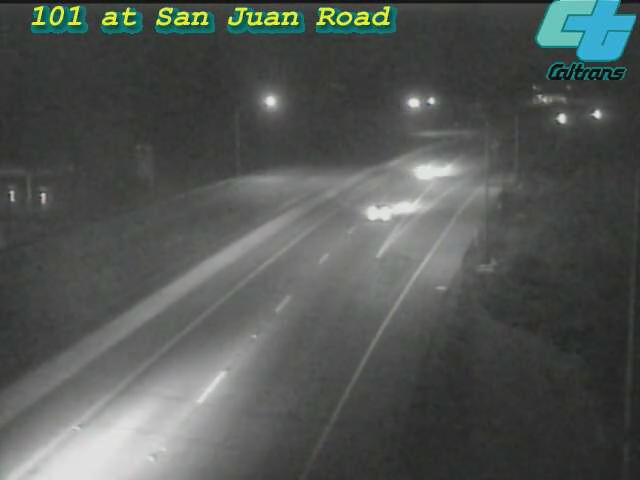vehicle: (385, 131, 465, 211), (342, 171, 422, 251), (539, 93, 589, 143), (571, 90, 621, 140)
